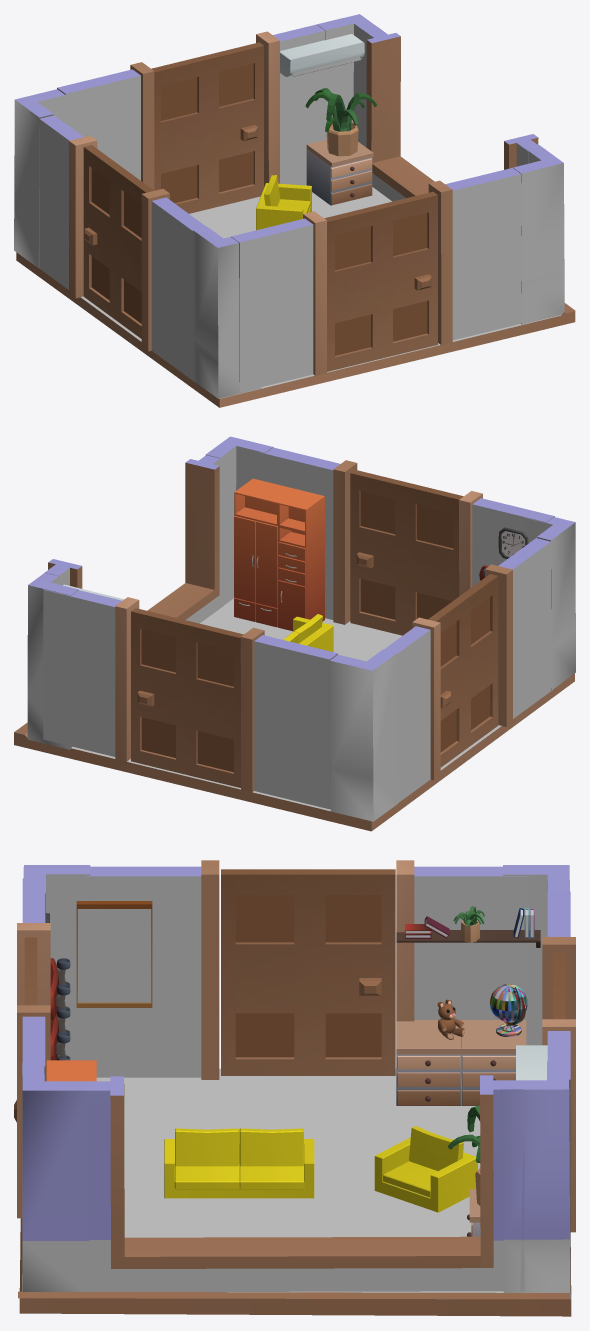
File: SALON.fbx
3 renders of one model, top to bottom at view 1: azimuth 30°, elevation 25°; view 2: azimuth 150°, elevation 25°; view 3: azimuth 270°, elevation 25°, orthographic. The views are drawn at different scales.
Visible parts, largest first — view 1: paret_puerta59, puerta37, puerta35, paret_puerta51, paret_puerta55, puerta40, paret_esquina_103, paret_esquina_102, suelo18, paret_con_ventana_grande25, mesita_con_planta3, paret_esquina_88 (+4 smaller); view 2: paret_puerta55, puerta35, paret_puerta51, puerta37, armario6, paret_esquina_88, paret_puerta59, puerta40, suelo18, paret_con_ventana_grande25, paret_esquina_103, paret_esquina_94 (+4 smaller); view 3: paret_puerta51, puerta40, paret_con_ventana_grande25, suelo18, fombra12, sofas3, paret_esquina_102, paret_esquina_94, comod_con_jugere_y_globus3, cuadro10, paret_puerta59, paret_puerta55 (+9 smaller).
Boxes of the visible parts, left/top/right/bottom form: paret_puerta59: left=231, top=167, right=521, bottom=392; puerta37: left=324, top=192, right=437, bottom=371; puerta35: left=151, top=42, right=263, bottom=213; paret_puerta51: left=30, top=112, right=205, bottom=381; paret_puerta55: left=57, top=18, right=351, bottom=190; puerta40: left=83, top=145, right=153, bottom=338; paret_esquina_103: left=193, top=226, right=261, bottom=398; paret_esquina_102: left=513, top=145, right=564, bottom=324; suelo18: left=16, top=185, right=575, bottom=407; paret_con_ventana_grande25: left=363, top=26, right=538, bottom=201; mesita_con_planta3: left=305, top=88, right=376, bottom=205; paret_esquina_88: left=14, top=89, right=65, bottom=268; paret_puerta55: left=43, top=589, right=337, bottom=809; puerta35: left=131, top=608, right=243, bottom=787; paret_puerta51: left=384, top=537, right=552, bottom=802; puerta37: left=350, top=470, right=463, bottom=635; armario6: left=234, top=478, right=324, bottom=631; paret_esquina_88: left=330, top=649, right=398, bottom=821; paret_puerta59: left=260, top=447, right=554, bottom=624; puerta40: left=428, top=574, right=498, bottom=767; suelo18: left=14, top=598, right=574, bottom=831; paret_con_ventana_grande25: left=44, top=455, right=224, bottom=623; paret_esquina_103: left=524, top=517, right=575, bottom=690; paret_esquina_94: left=27, top=570, right=78, bottom=749; paret_puerta51: left=84, top=860, right=528, bottom=1079; puerta40: left=221, top=869, right=395, bottom=1075; paret_con_ventana_grande25: left=89, top=1075, right=524, bottom=1291; suelo18: left=18, top=1068, right=571, bottom=1316; fombra12: left=139, top=1109, right=480, bottom=1223; sofas3: left=164, top=1126, right=477, bottom=1212; paret_esquina_102: left=22, top=1062, right=89, bottom=1291; paret_esquina_94: left=502, top=1061, right=570, bottom=1292; comod_con_jugere_y_globus3: left=396, top=984, right=527, bottom=1105; cuadro10: left=76, top=901, right=152, bottom=1007; paret_puerta59: left=17, top=878, right=50, bottom=1218; paret_puerta55: left=542, top=891, right=575, bottom=1280.
Size of the model in its own units: 835 by 364 by 836.
